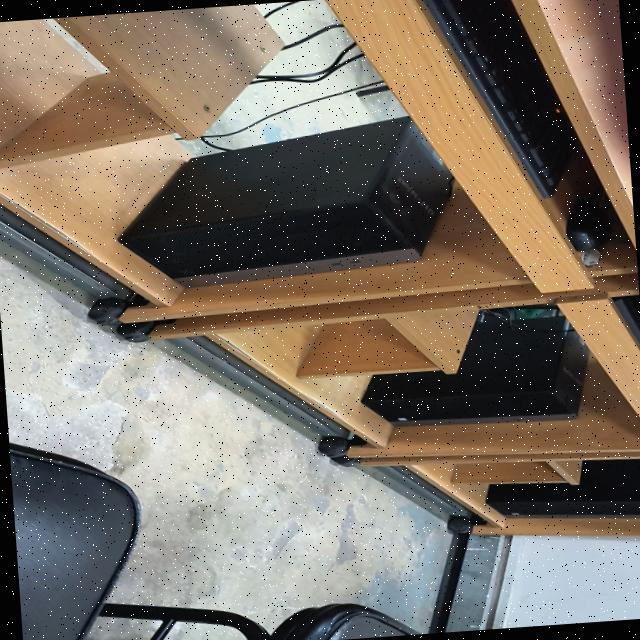Chair: (8, 442, 138, 640), (268, 603, 420, 640)
Cpu: (118, 117, 451, 287), (361, 305, 588, 425), (485, 459, 640, 518)
Keyboard: (420, 0, 575, 198), (611, 294, 640, 350)
Mouse: (566, 199, 611, 251)
